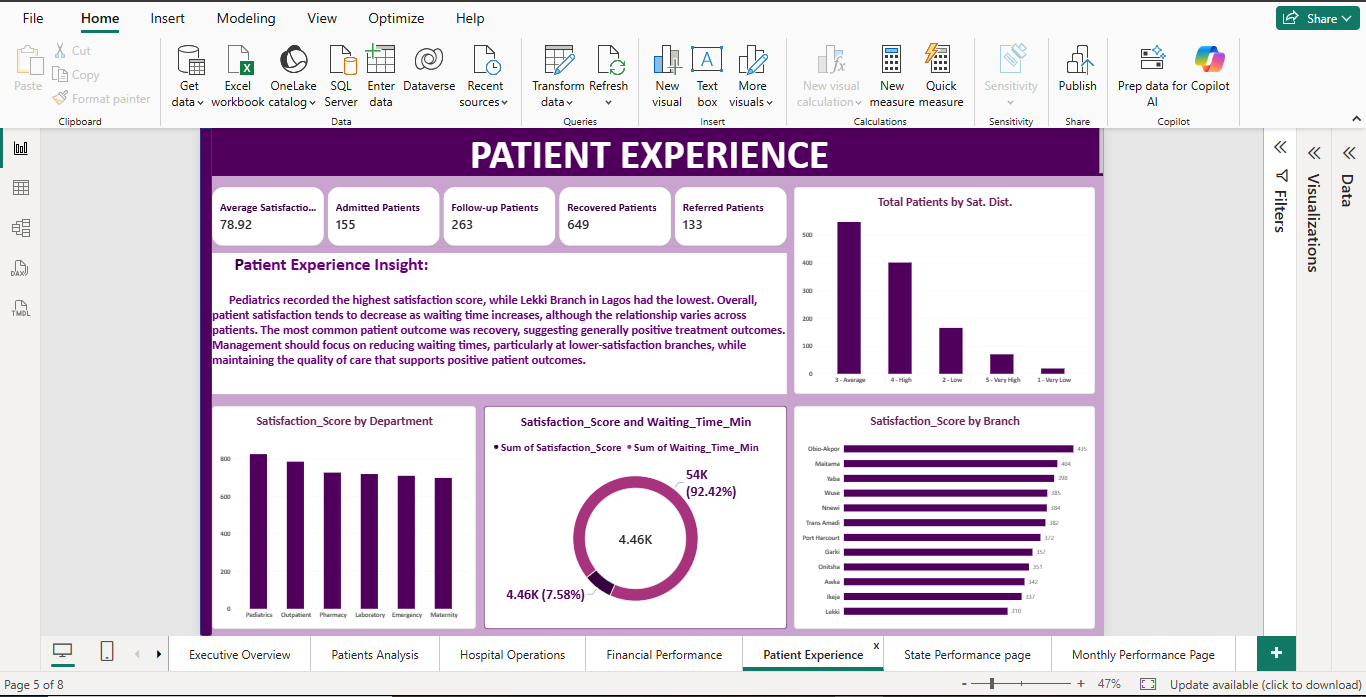

What the dashboard file says about the page in this screenshot:
{"tool":"powerbi","page":{"name":"Patient Experience","canvas":[1920,1080],"ordinal":4},"visuals":[{"type":"textbox","box":[0,0,1919.8,102],"z":0},{"type":"columnChart","title":"Satisfaction_Score by Department","fields":{"Category":["Patient_Visits.Department"],"Y":["Sum(Patient_Visits.Satisfaction_Score)"]},"box":[25.5,591,561.3,474.1],"z":1000},{"type":"barChart","title":"Satisfaction_Score by Branch","fields":{"Category":["Patient_Visits.Branch"],"Y":["Sum(Patient_Visits.Satisfaction_Score)"]},"box":[1262.8,591,639.9,474.1],"z":2000},{"type":"shape","box":[0,0,25.5,1080],"z":3000},{"type":"donutChart","title":"Satisfaction_Score and Waiting_Time_Min","fields":{"Y":["Sum(Patient_Visits.Satisfaction_Score)","Sum(Patient_Visits.Waiting_Time_Min)"]},"box":[603.8,591,644.2,474.1],"z":4000},{"type":"clusteredColumnChart","fields":{"Category":["Patient_Visits.Sat. Dist."],"Y":["All Measures.Total Patients"]},"box":[1262.8,125.4,639.9,440.1],"z":5000},{"type":"cardVisual","fields":{"Data":["All Measures.Average Satisfaction Score","All Measures.Admitted Patients","All Measures.Follow-up Patients","All Measures.Recovered Patients","All Measures.Referred Patients"]},"box":[25.5,125.4,1222.4,125.4],"z":6000},{"type":"textbox","box":[25.5,265.7,1222.4,299.8],"z":7000}]}

Visuals, with their boxes on the page's 1920x1080 design canvas (x1, y1, x2, y2). These are canvas units, not pixel positions in the 1366x697 screenshot, which may show the page scaled, cropped or inside an application window:
textbox: region(0, 0, 1920, 102)
"Satisfaction_Score by Department" columnChart: region(26, 591, 587, 1065)
"Satisfaction_Score by Branch" barChart: region(1263, 591, 1903, 1065)
shape: region(0, 0, 26, 1080)
"Satisfaction_Score and Waiting_Time_Min" donutChart: region(604, 591, 1248, 1065)
clusteredColumnChart - Patient_Visits.Sat. Dist. x All Measures.Total Patients: region(1263, 125, 1903, 566)
cardVisual - All Measures.Average Satisfaction Score x All Measures.Admitted Patients: region(26, 125, 1248, 251)
textbox: region(26, 266, 1248, 566)
